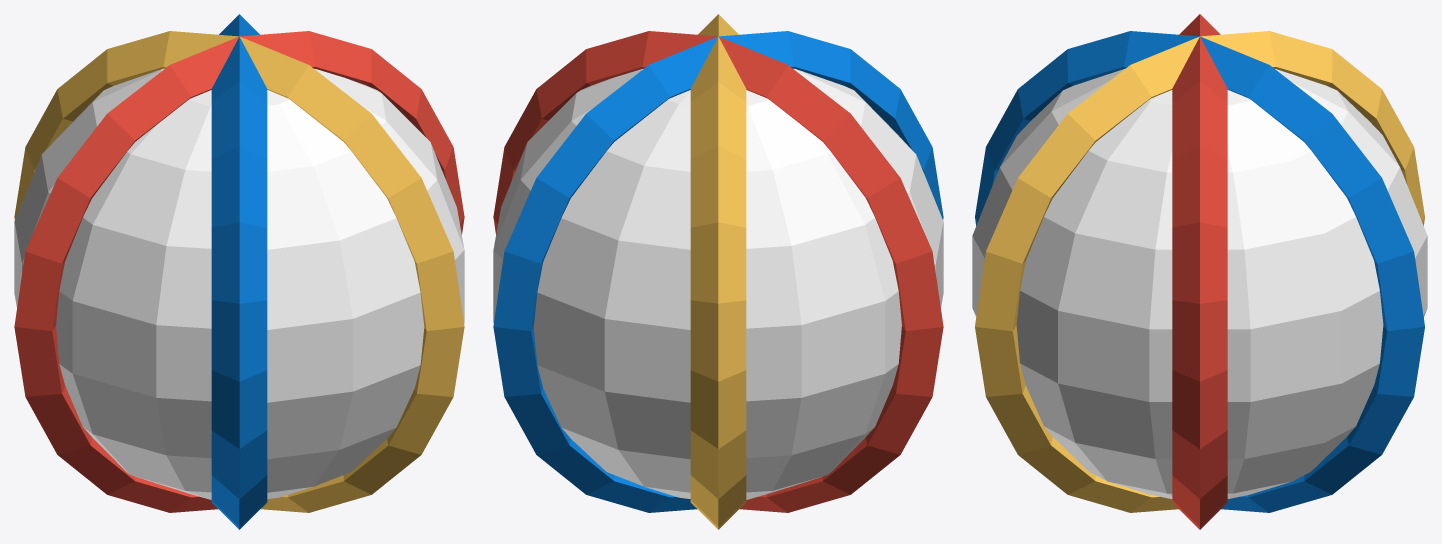
Rendered from ball.glb.
The picture shows the model from 3 angles, left to right: view 1: azimuth 30°, elevation 25°; view 2: azimuth 150°, elevation 25°; view 3: azimuth 270°, elevation 25°; orthographic projection.
Parts seen in each view (by area): view 1: ball.001; view 2: ball.001; view 3: ball.001.
Boxes of the visible parts, bbox=[...] form: ball.001: bbox=[14, 14, 464, 529]; ball.001: bbox=[493, 14, 943, 529]; ball.001: bbox=[972, 14, 1427, 529].
Bounding box in the file's own units: 1.12 × 1.12 × 0.9848.
